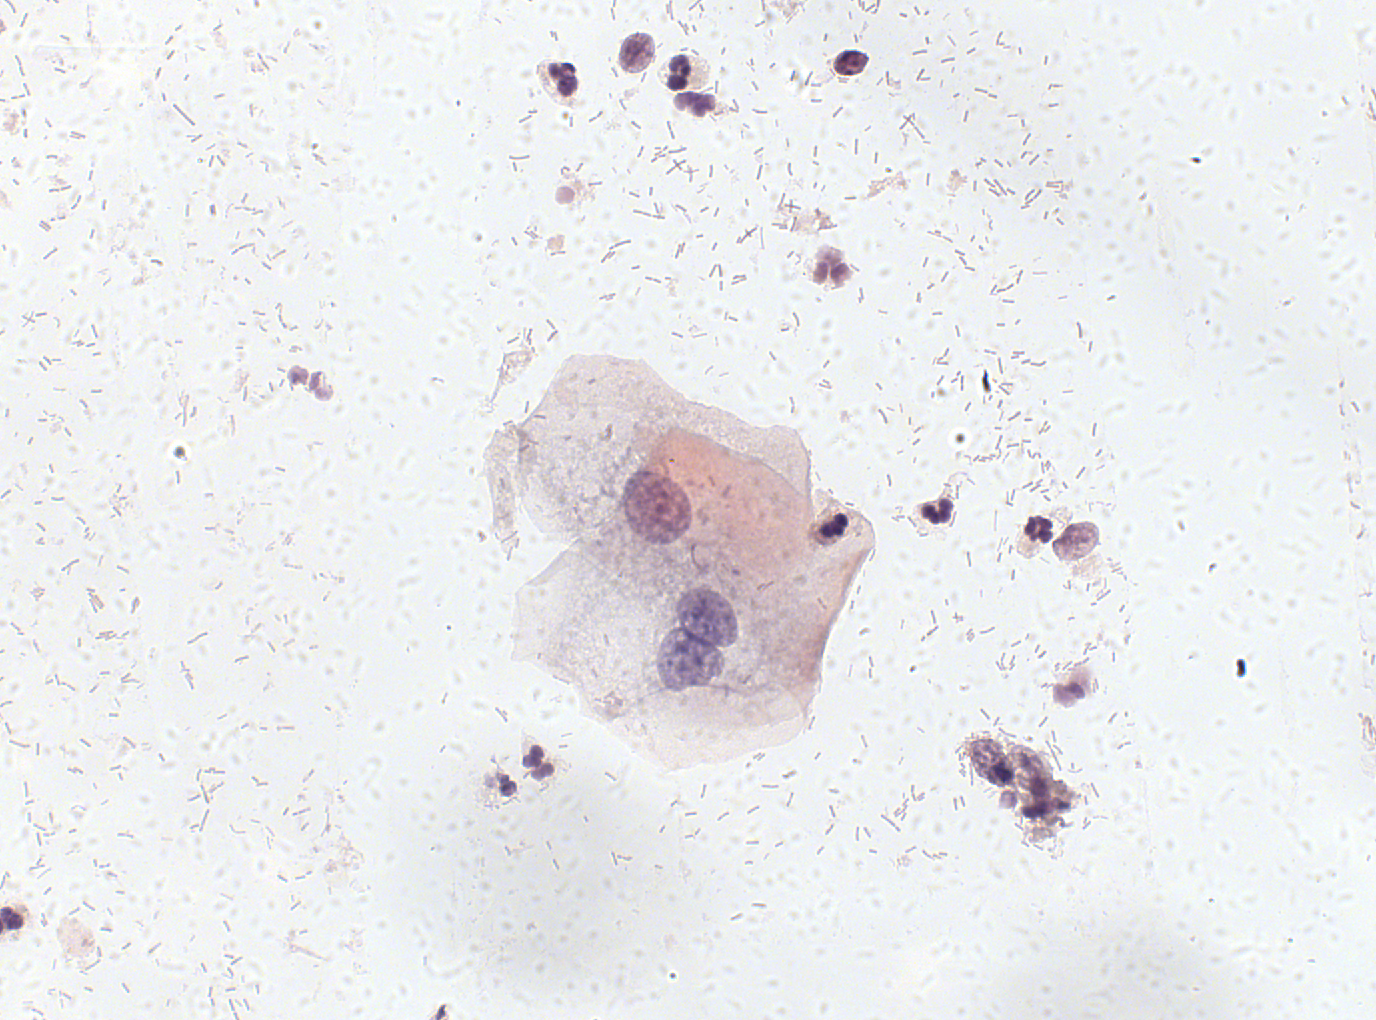Abn: (619, 467, 698, 551), (655, 626, 729, 696), (673, 585, 741, 649)
